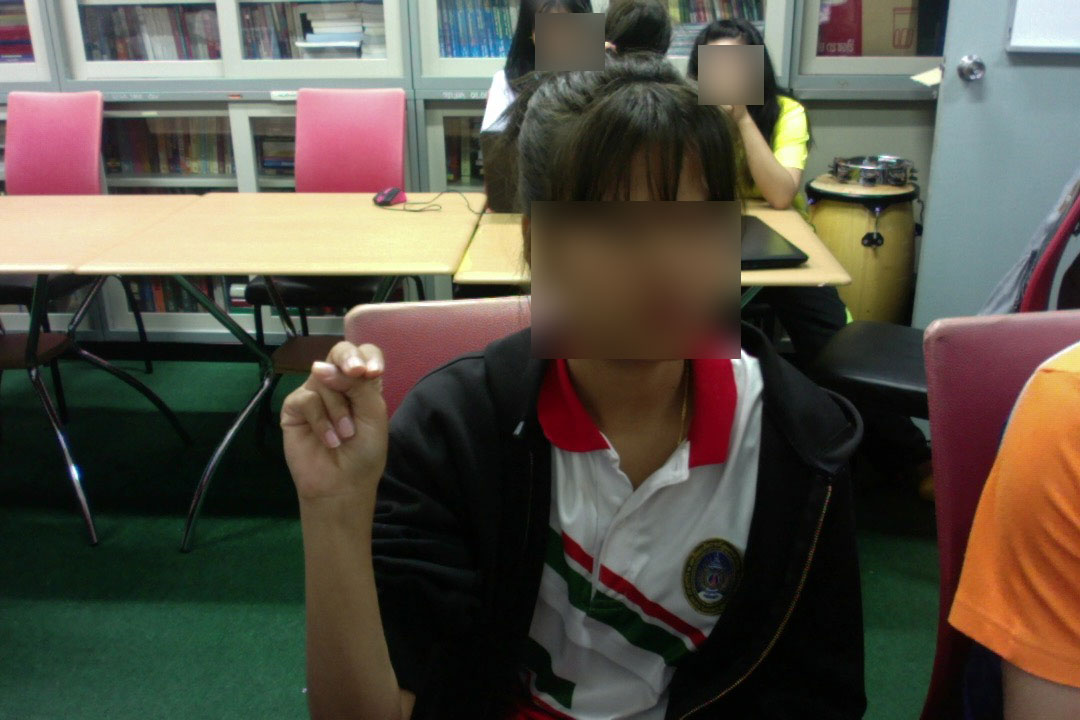nor: (271, 334, 393, 538)
